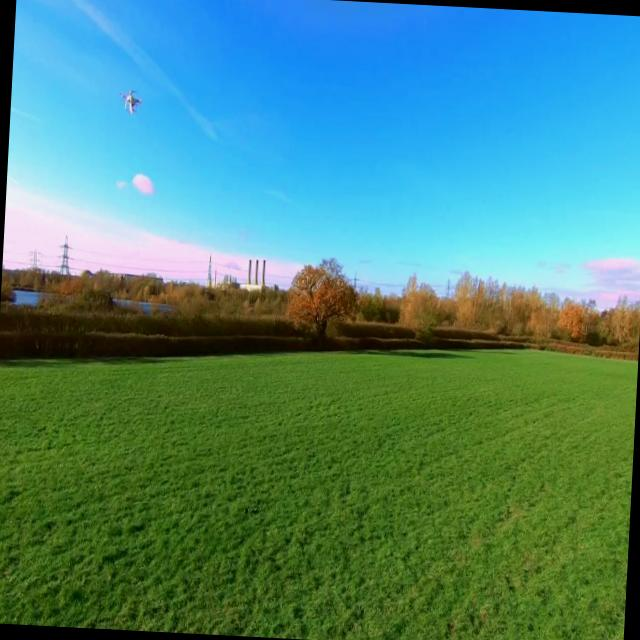drone: (117, 86, 146, 118)
